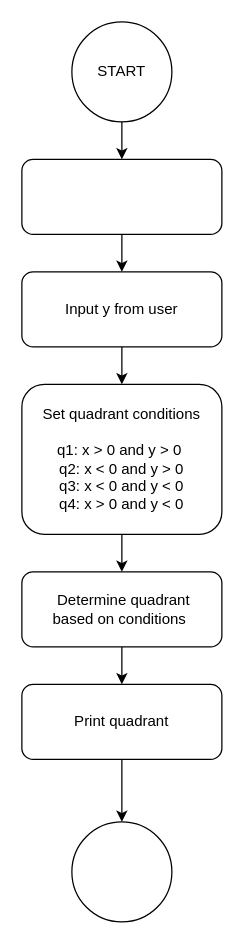
This 244x944 diagram has some shape labels left out. Each missing label, with the box of its shape:
END: (71, 821, 172, 922)
Input x from user: (21, 158, 222, 234)
